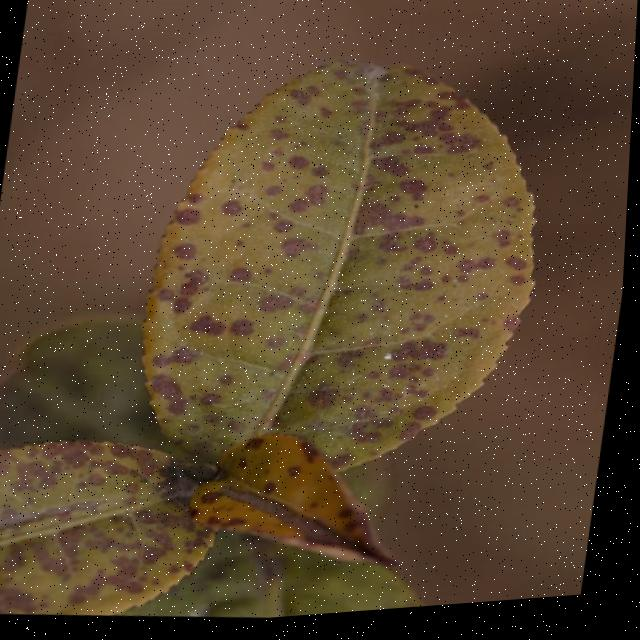Tea red scab: (145, 48, 545, 461), (0, 429, 221, 626), (208, 444, 386, 568)
